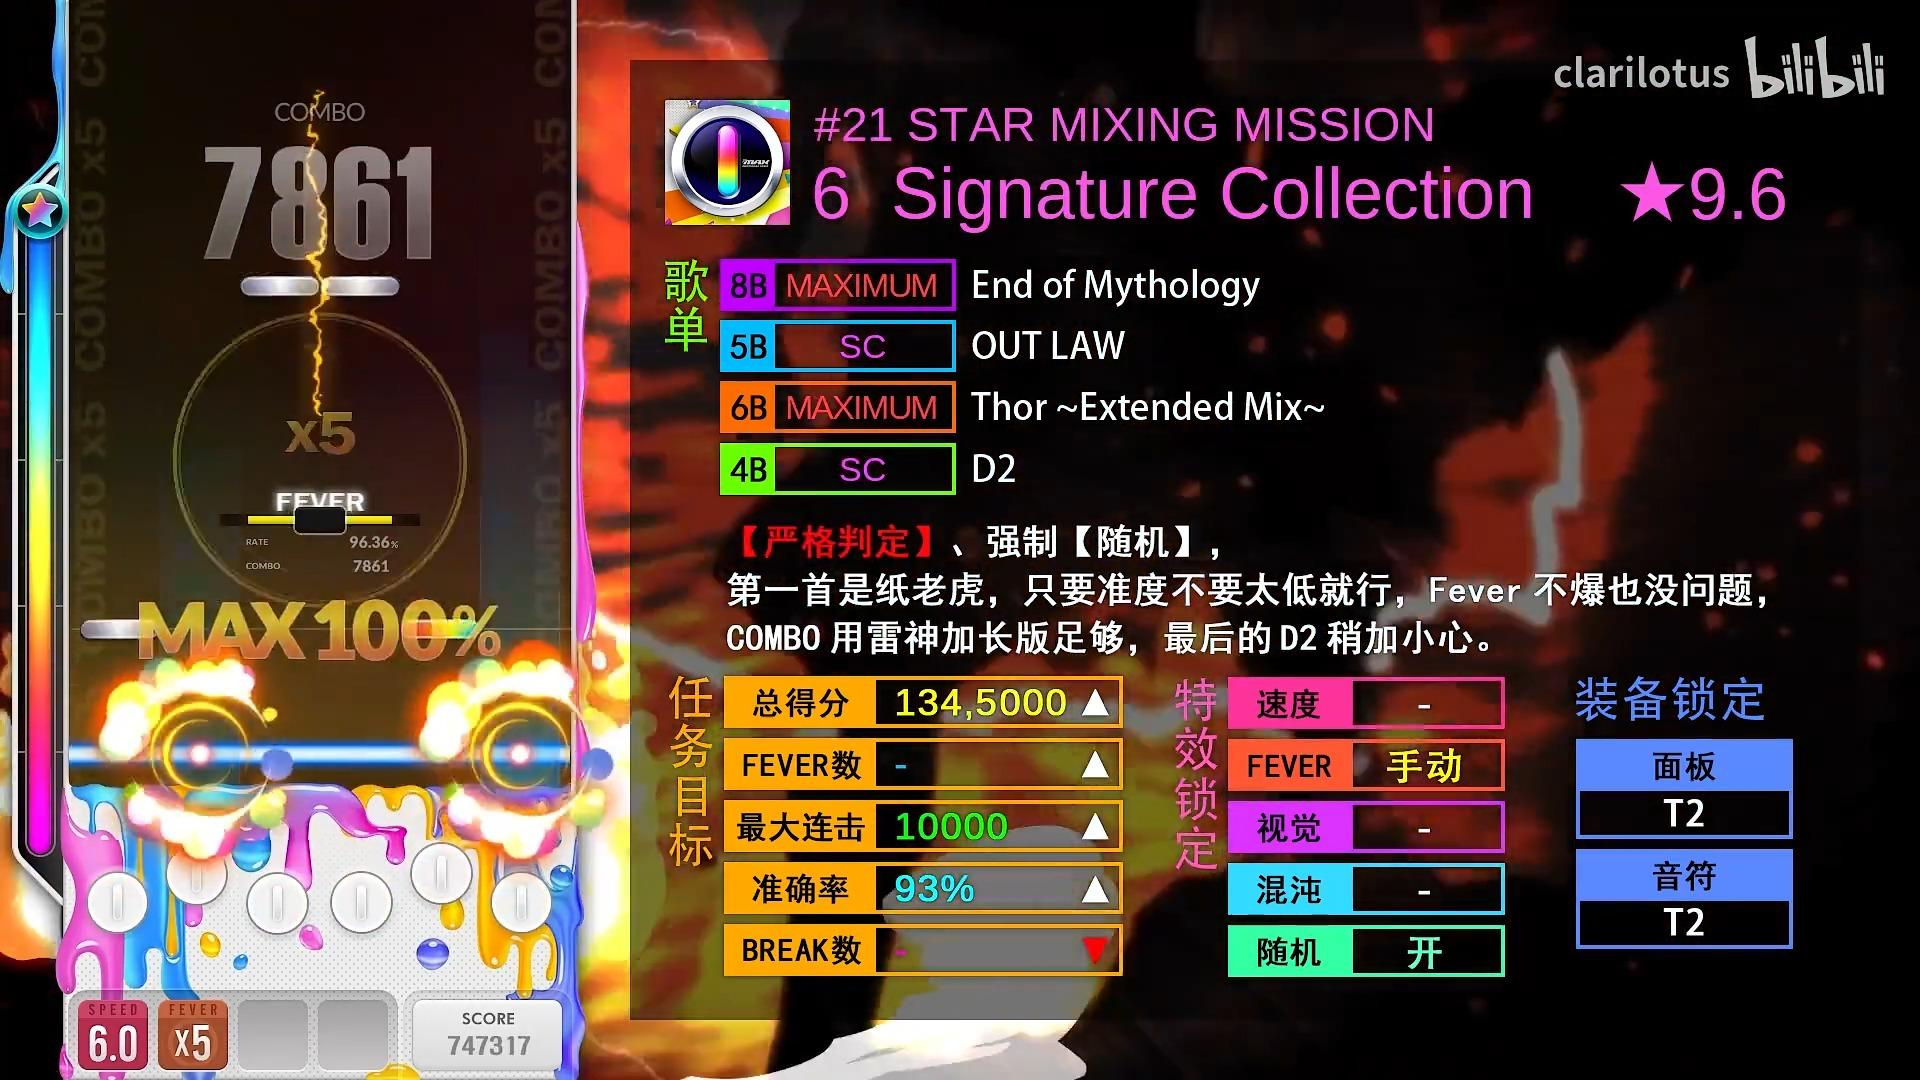note: (240, 276, 320, 297), (322, 276, 400, 297), (80, 618, 158, 640), (401, 618, 479, 637)
